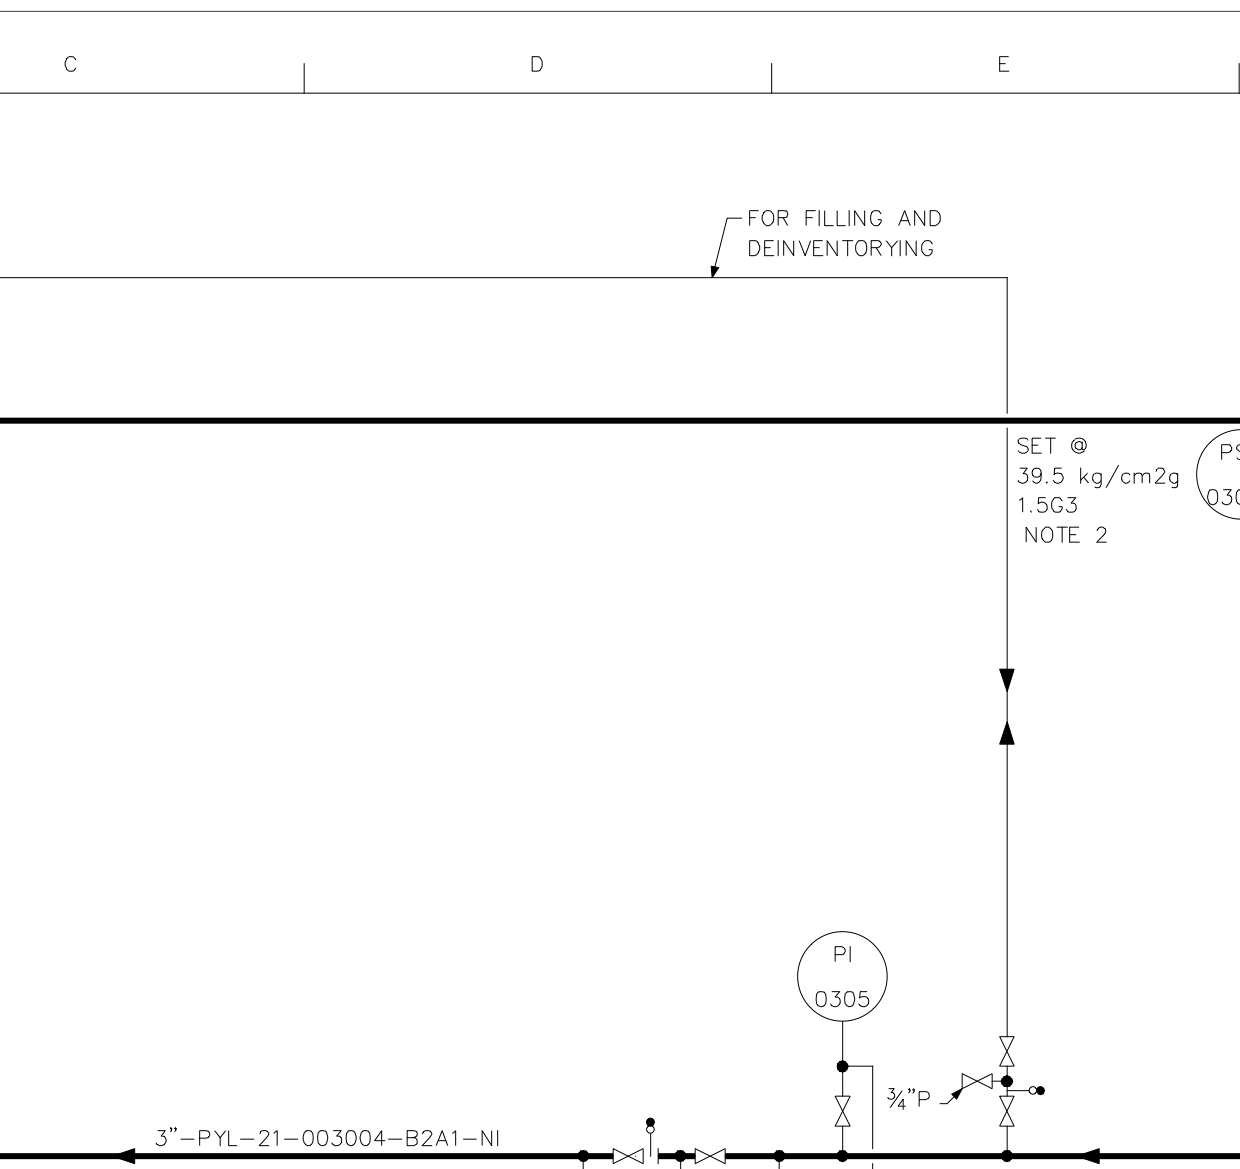Line Number: (153, 1120, 507, 1150)
Spetacle Blind: (637, 1112, 664, 1169), (998, 1080, 1049, 1100)
